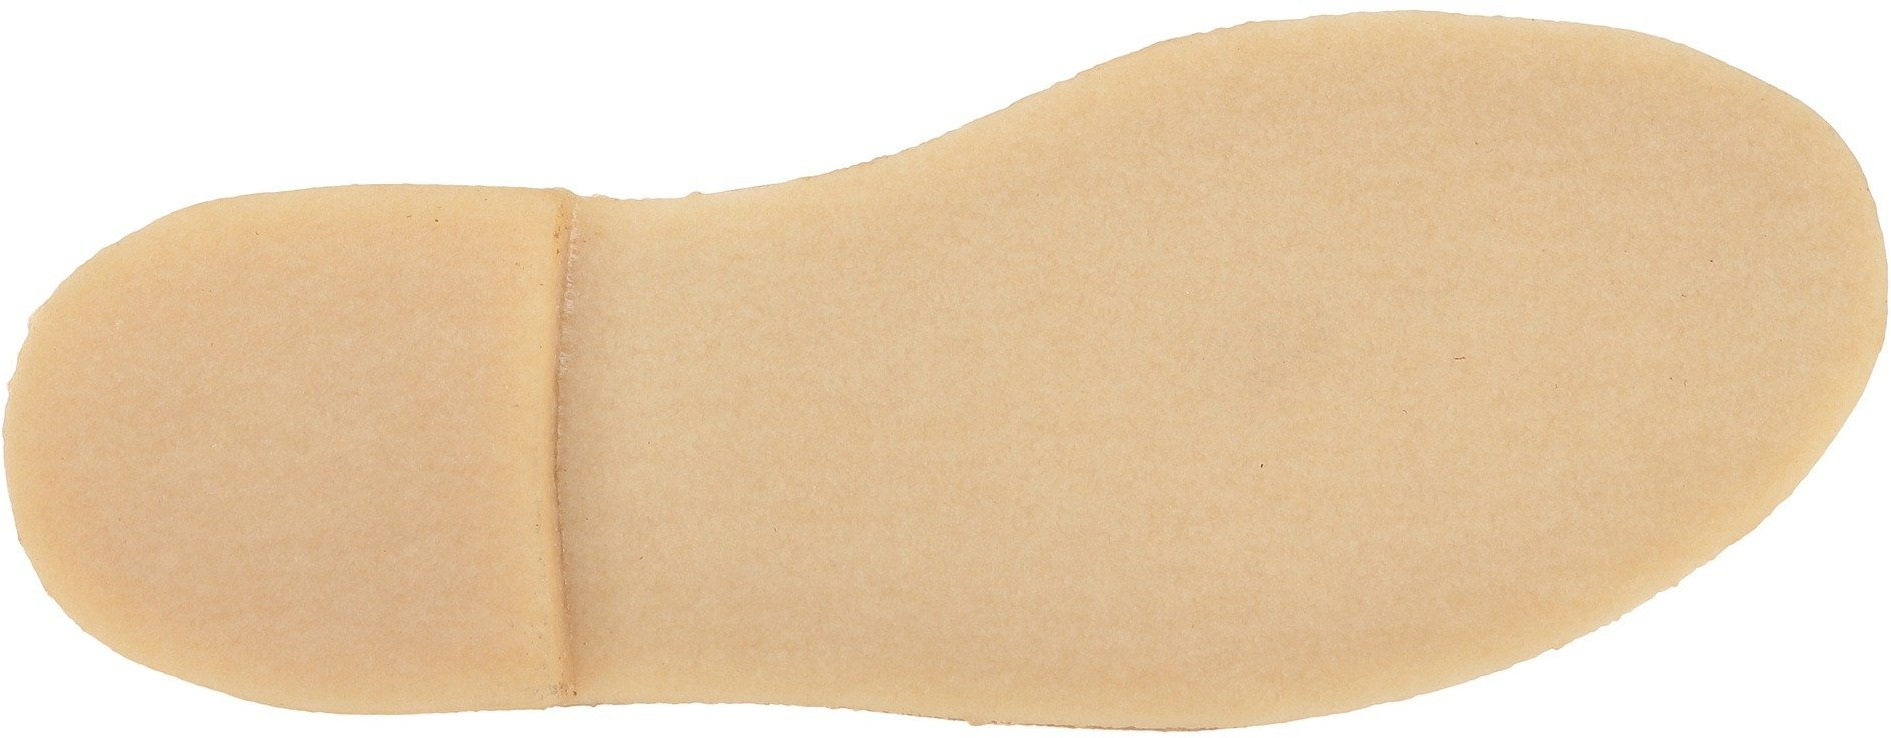other: (1391, 59, 1779, 475), (989, 127, 1381, 506), (115, 268, 522, 632), (599, 217, 968, 531)
